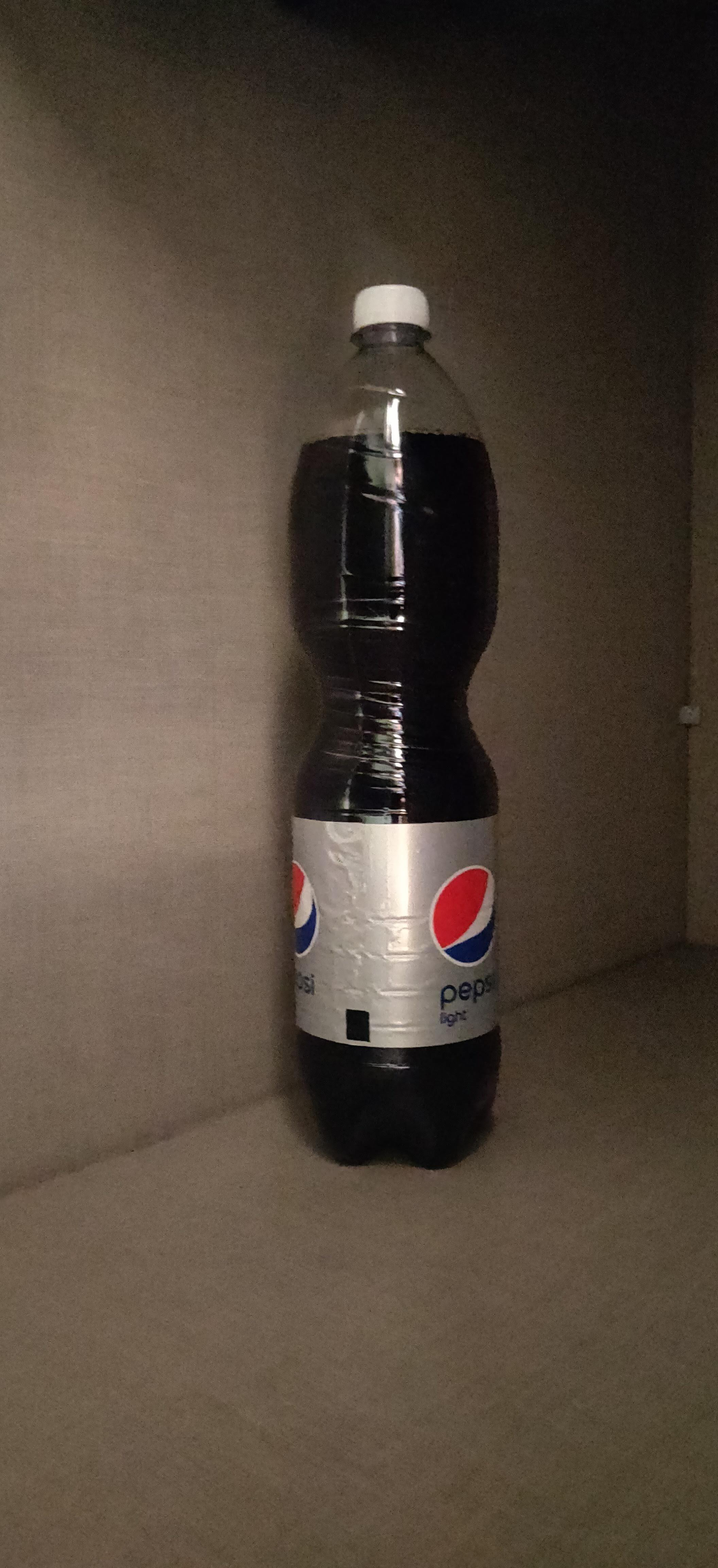bottle-plastic: (280, 283, 513, 1173)
